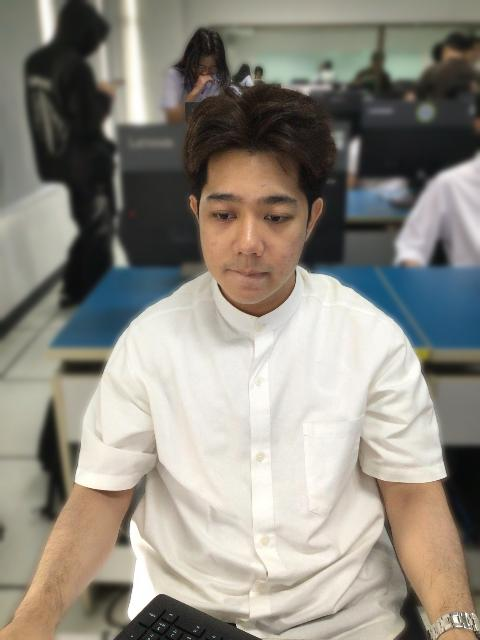fokus: (185, 102, 326, 301)
